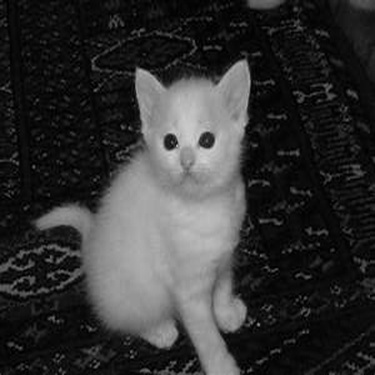cat: (31, 56, 253, 367)
